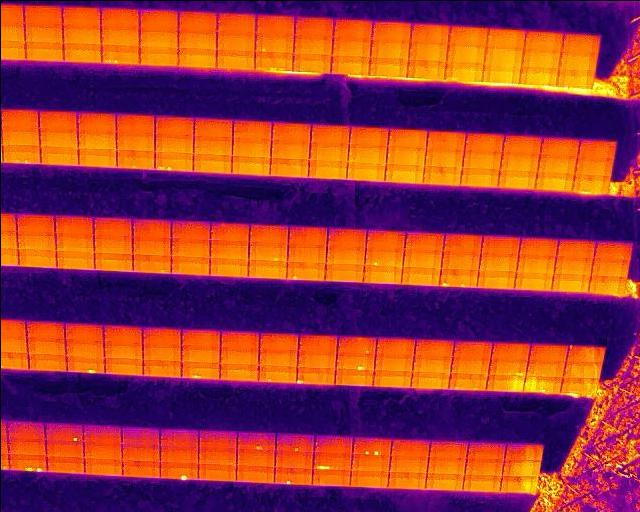Cell: (287, 261, 325, 280), (254, 33, 293, 51), (65, 355, 104, 373), (45, 423, 83, 441), (365, 247, 402, 265), (160, 461, 197, 479), (237, 431, 274, 449), (181, 362, 219, 379), (259, 365, 296, 382), (274, 467, 311, 484), (276, 434, 313, 451), (337, 352, 373, 369), (295, 367, 333, 383)
Cell-Multi: (100, 45, 139, 65), (154, 151, 192, 171), (2, 145, 39, 164), (8, 453, 46, 471), (440, 269, 477, 287), (353, 437, 389, 455)
No-Anomaly: (22, 4, 62, 26), (192, 152, 231, 173), (76, 111, 115, 132), (38, 110, 77, 131), (524, 30, 564, 50), (139, 8, 177, 29), (62, 6, 100, 27), (249, 223, 287, 244), (231, 155, 269, 176), (0, 108, 38, 129), (170, 255, 209, 275), (215, 49, 254, 69), (138, 45, 177, 65), (294, 16, 333, 36), (217, 12, 256, 32), (177, 11, 216, 31), (100, 8, 139, 28), (288, 225, 327, 245), (271, 121, 310, 141), (232, 119, 271, 139), (154, 116, 193, 136), (116, 113, 155, 133), (518, 237, 556, 257), (255, 13, 293, 33), (55, 214, 93, 234), (232, 137, 270, 157), (310, 123, 348, 143), (141, 327, 180, 346), (103, 324, 142, 343), (17, 248, 56, 267), (170, 238, 209, 257), (368, 57, 407, 76), (446, 45, 485, 64), (370, 39, 409, 58), (209, 221, 248, 240), (132, 218, 171, 237), (423, 165, 462, 184), (425, 131, 464, 150), (6, 420, 45, 439), (520, 64, 557, 84), (487, 28, 524, 48), (385, 162, 422, 182), (347, 160, 384, 180), (350, 126, 387, 146), (558, 239, 593, 260), (502, 151, 537, 172), (64, 323, 102, 342), (401, 266, 439, 285), (325, 262, 363, 281), (248, 259, 286, 278), (94, 251, 132, 270), (326, 245, 364, 264), (210, 239, 248, 258), (485, 47, 523, 66), (177, 47, 215, 66), (62, 43, 100, 62), (24, 42, 62, 61), (216, 31, 254, 50), (333, 18, 371, 37), (171, 220, 209, 239), (308, 159, 346, 178), (116, 150, 154, 169), (78, 148, 116, 167), (40, 146, 78, 165), (348, 143, 386, 162), (194, 136, 232, 155), (388, 128, 426, 147), (563, 33, 599, 53), (447, 26, 487, 44), (462, 167, 498, 187), (133, 254, 170, 273), (463, 149, 500, 168), (387, 146, 424, 165), (314, 435, 351, 454), (103, 341, 142, 359), (209, 257, 248, 275), (402, 248, 441, 266), (248, 242, 287, 260), (15, 214, 54, 232), (193, 118, 232, 136), (159, 429, 198, 447), (120, 426, 159, 444), (580, 139, 615, 159), (28, 353, 66, 371), (220, 330, 258, 348), (26, 321, 64, 339), (514, 272, 552, 290), (516, 254, 554, 272), (56, 251, 94, 269), (483, 235, 519, 254), (94, 235, 132, 253), (443, 233, 481, 251), (483, 64, 519, 83), (408, 59, 444, 78), (331, 55, 369, 73), (292, 53, 330, 71), (83, 457, 121, 475), (254, 50, 292, 68), (332, 37, 370, 55), (294, 35, 332, 53), (178, 30, 216, 48), (139, 29, 177, 47), (100, 27, 138, 45), (62, 26, 100, 44), (121, 443, 159, 461), (467, 441, 505, 459), (83, 440, 121, 458), (499, 170, 535, 189), (270, 159, 308, 177), (271, 140, 309, 158), (116, 133, 154, 151), (235, 464, 273, 482), (429, 440, 465, 459), (259, 348, 296, 366), (364, 265, 401, 283), (412, 370, 449, 388), (571, 174, 608, 192), (426, 148, 463, 166), (465, 133, 502, 151), (78, 132, 115, 150), (560, 50, 595, 69), (410, 42, 445, 61), (539, 154, 574, 173), (504, 135, 539, 154), (65, 340, 104, 357), (181, 329, 220, 346), (287, 245, 326, 262), (16, 232, 55, 249), (404, 231, 443, 248), (365, 229, 404, 246), (371, 22, 410, 39), (327, 228, 366, 245), (454, 341, 490, 359), (299, 334, 335, 352), (555, 257, 591, 275), (442, 252, 478, 270), (411, 24, 447, 42), (487, 373, 523, 391), (536, 172, 572, 190), (220, 348, 258, 365), (476, 270, 514, 287), (132, 238, 170, 255), (55, 234, 93, 251), (197, 463, 235, 480), (121, 460, 159, 477), (558, 68, 592, 87), (445, 63, 483, 80), (236, 449, 274, 466), (219, 364, 257, 381), (143, 359, 181, 376), (93, 218, 131, 235), (311, 469, 349, 486), (309, 143, 347, 160), (543, 138, 577, 157), (154, 135, 192, 152), (198, 430, 236, 447), (83, 425, 121, 442), (531, 343, 566, 361), (416, 338, 451, 356), (506, 442, 541, 460), (182, 345, 219, 362), (260, 333, 297, 350), (480, 253, 517, 270), (523, 50, 560, 67), (465, 458, 502, 475), (198, 447, 235, 464), (105, 357, 142, 374), (594, 257, 627, 276), (597, 242, 630, 261), (24, 26, 63, 42), (39, 131, 78, 147), (338, 336, 374, 353), (390, 455, 426, 472), (352, 454, 388, 471), (275, 450, 311, 467), (524, 376, 560, 393), (336, 368, 372, 385), (426, 473, 462, 490), (389, 471, 425, 488), (575, 157, 611, 174), (392, 439, 428, 456), (27, 339, 65, 355), (46, 456, 84, 472), (1, 129, 39, 145), (299, 350, 334, 367), (493, 342, 528, 359), (377, 338, 412, 355), (428, 457, 463, 474), (450, 372, 485, 389), (374, 369, 409, 386), (464, 474, 499, 491), (569, 345, 602, 363), (554, 274, 587, 292), (45, 441, 82, 457), (6, 439, 45, 454), (529, 359, 563, 376), (491, 358, 525, 375), (414, 354, 450, 370), (350, 470, 386, 486), (160, 447, 198, 462), (590, 275, 623, 292), (376, 354, 411, 370), (503, 459, 538, 475), (565, 361, 600, 377), (143, 345, 180, 360), (501, 476, 535, 492), (562, 378, 596, 392), (454, 359, 488, 373)
Unclassified: (313, 452, 350, 470)
